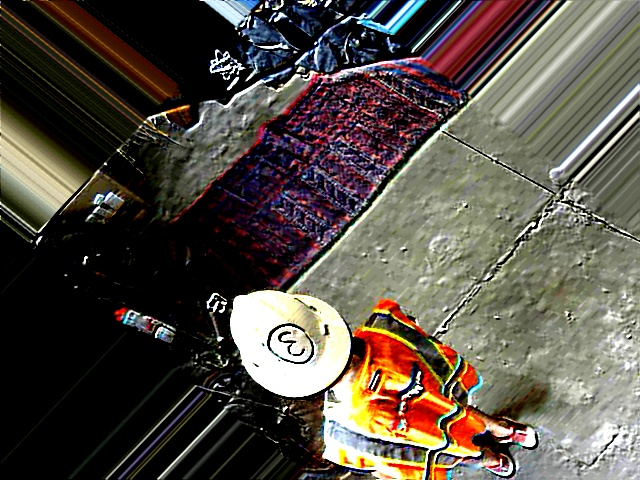three: (259, 316, 322, 373)
